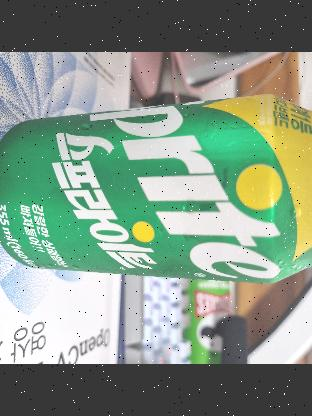Can: (0, 101, 312, 283)
